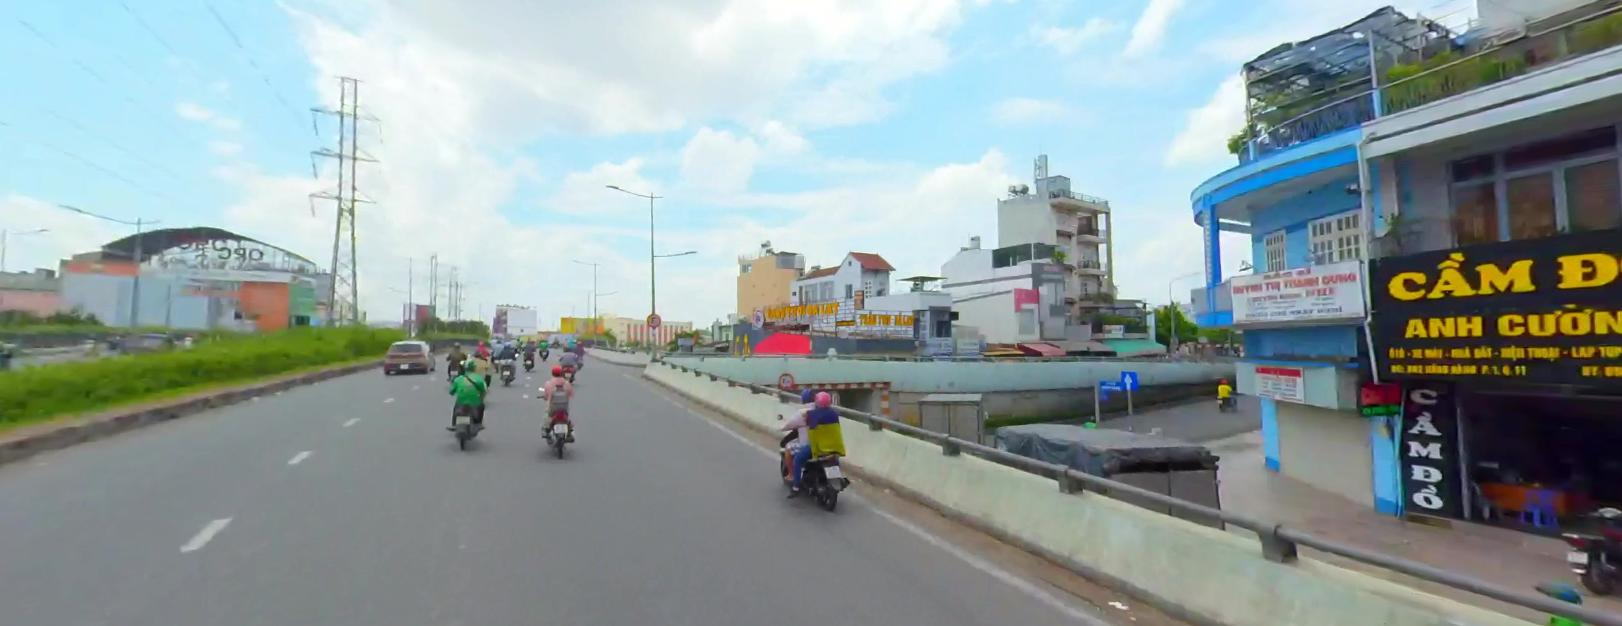Cam con lai: (779, 372, 793, 387)
Cam re: (647, 312, 661, 325)
